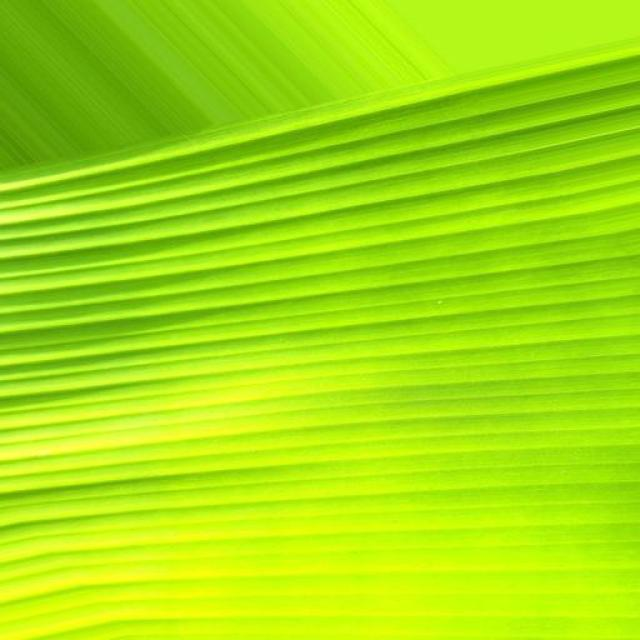Black_leaf_spot: (0, 99, 640, 578)
